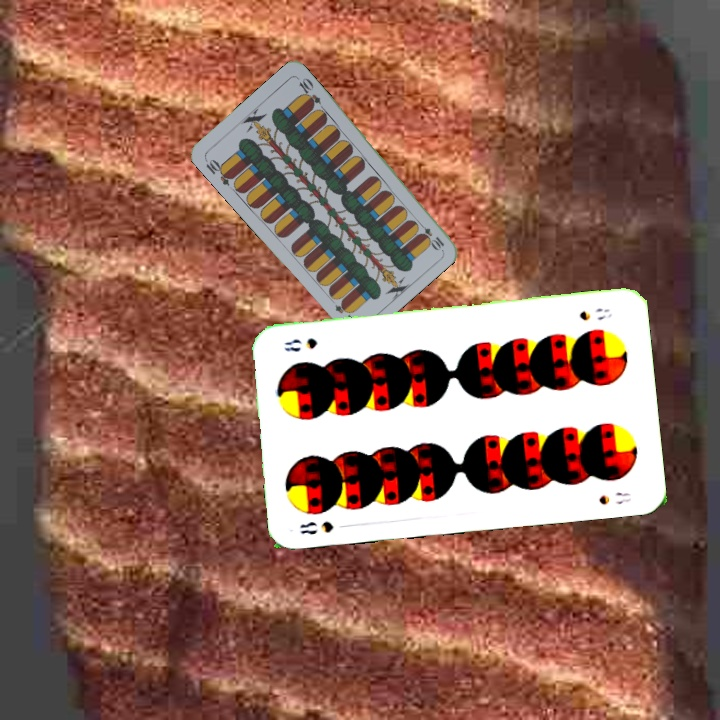E10: (201, 154, 236, 188), (413, 218, 447, 252)
S8: (295, 517, 336, 537), (575, 303, 615, 323)
